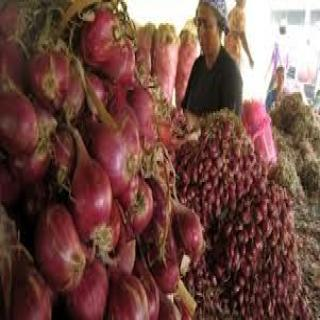Bawang Merah: (1, 1, 206, 319), (171, 106, 313, 319)
